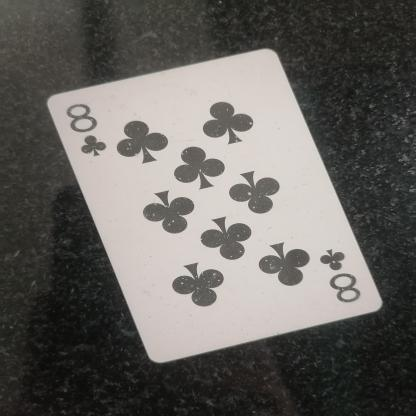8C: (312, 239, 370, 309), (60, 99, 116, 169)
